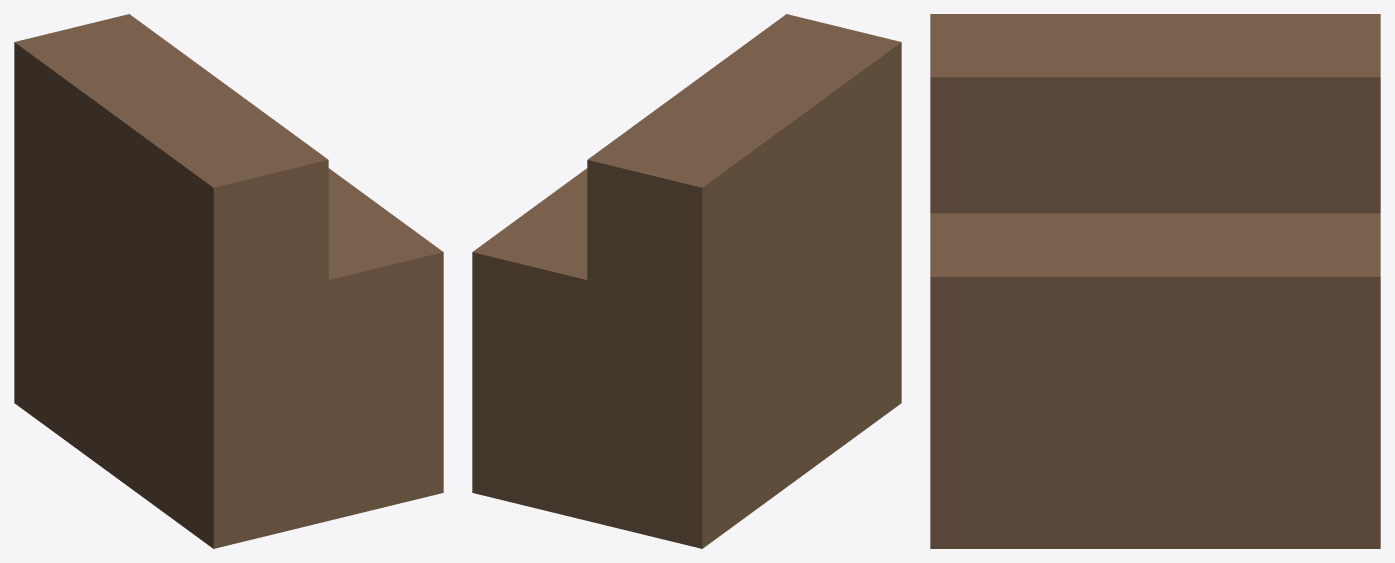
The model's file is mob_flores_arm_right.dae.
3 renders of one model, left to right at view 1: azimuth 30°, elevation 25°; view 2: azimuth 150°, elevation 25°; view 3: azimuth 270°, elevation 25°, orthographic. The views are drawn at different scales.
Parts seen in each view (by area): view 1: mob_flores_arm_right; view 2: mob_flores_arm_right; view 3: mob_flores_arm_right.
Boxes of the visible parts, x1,y1,x2,y2 form: mob_flores_arm_right: [14, 14, 443, 548]; mob_flores_arm_right: [472, 14, 901, 548]; mob_flores_arm_right: [930, 14, 1380, 548].
Bounding box in the file's own units: 0.2 × 0.3 × 0.3.
Materials: 1 (1 with a texture image).
